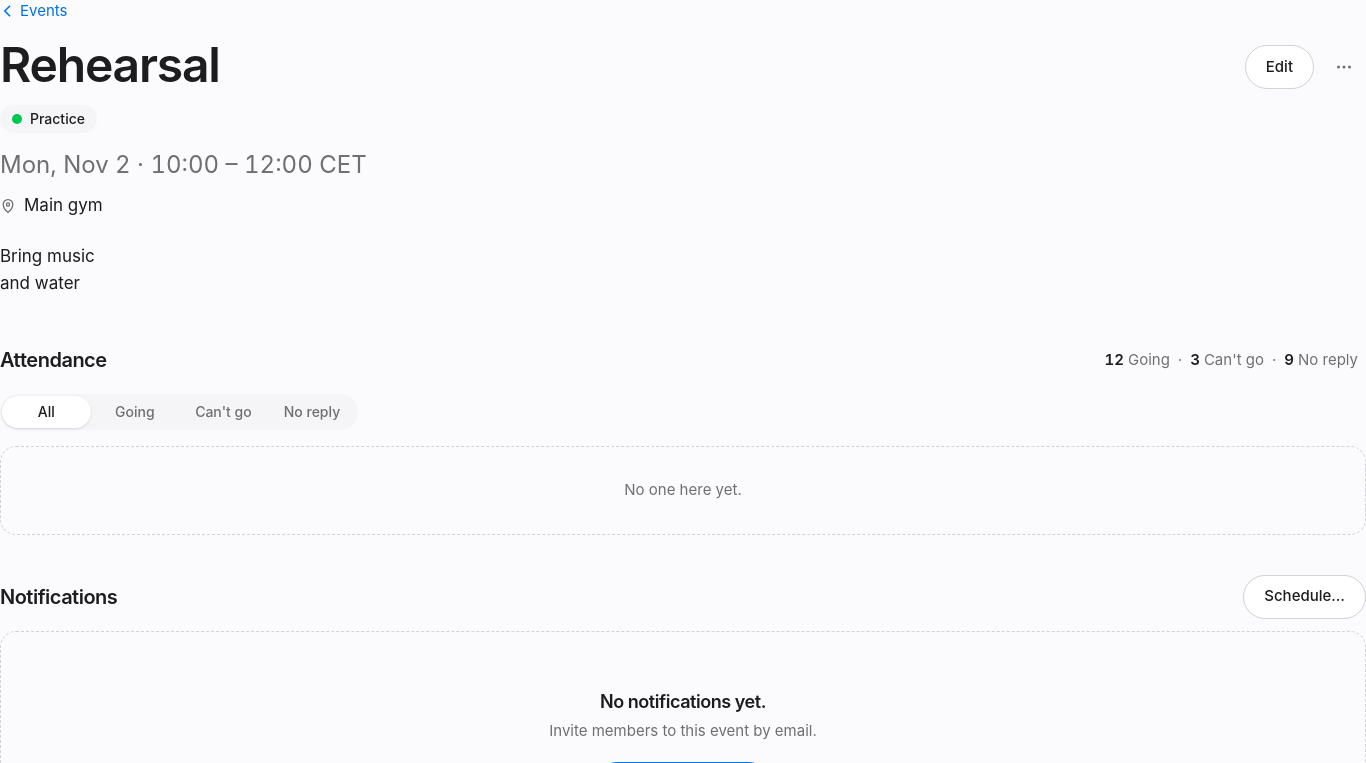
EventDetailView › schedules a reminder and toasts when it will go out
Click the button "Schedule…".
click(1305, 596)  # box 1243,574 -> 1365,618
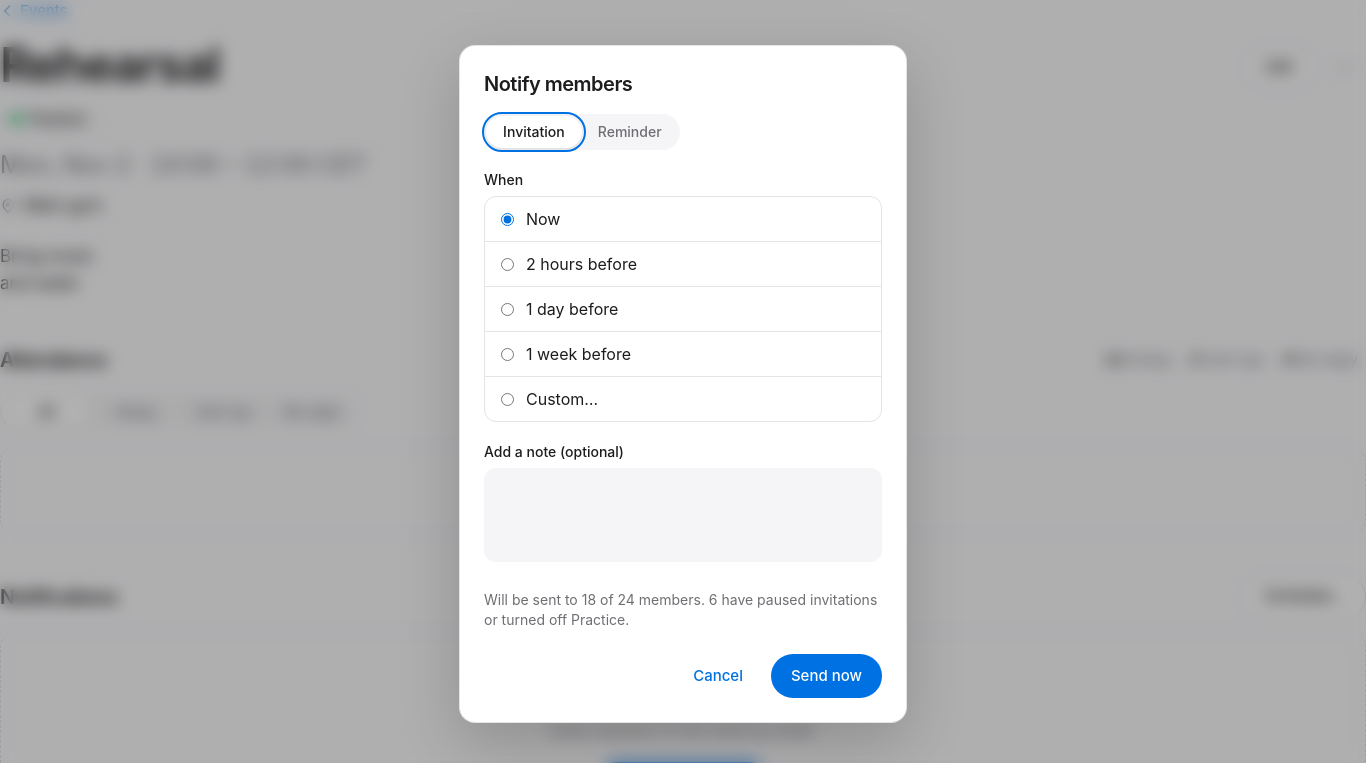
Click the radio button labelled "Reminder".
click(630, 132)  # box 582,116 -> 678,148
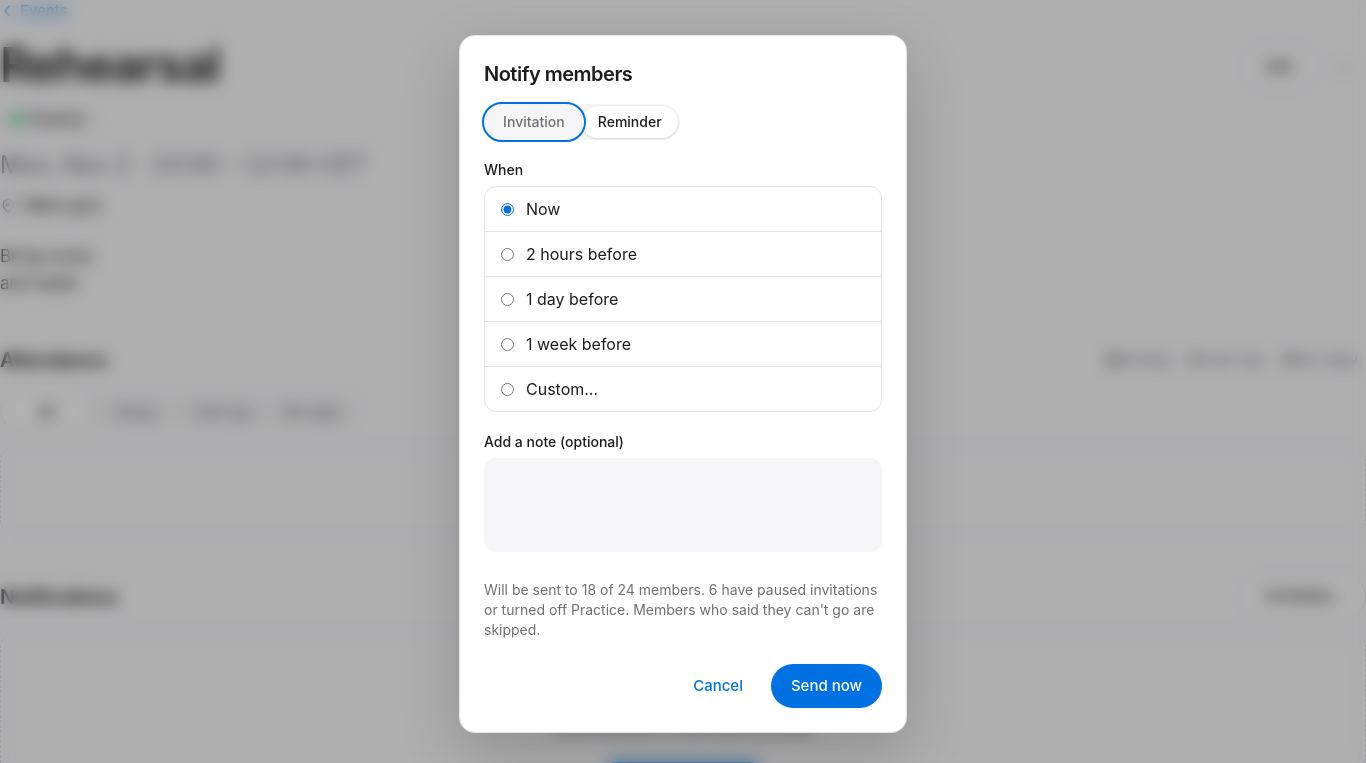
Click the radio button named "timing".
click(508, 299)  # box 501,292 -> 514,306
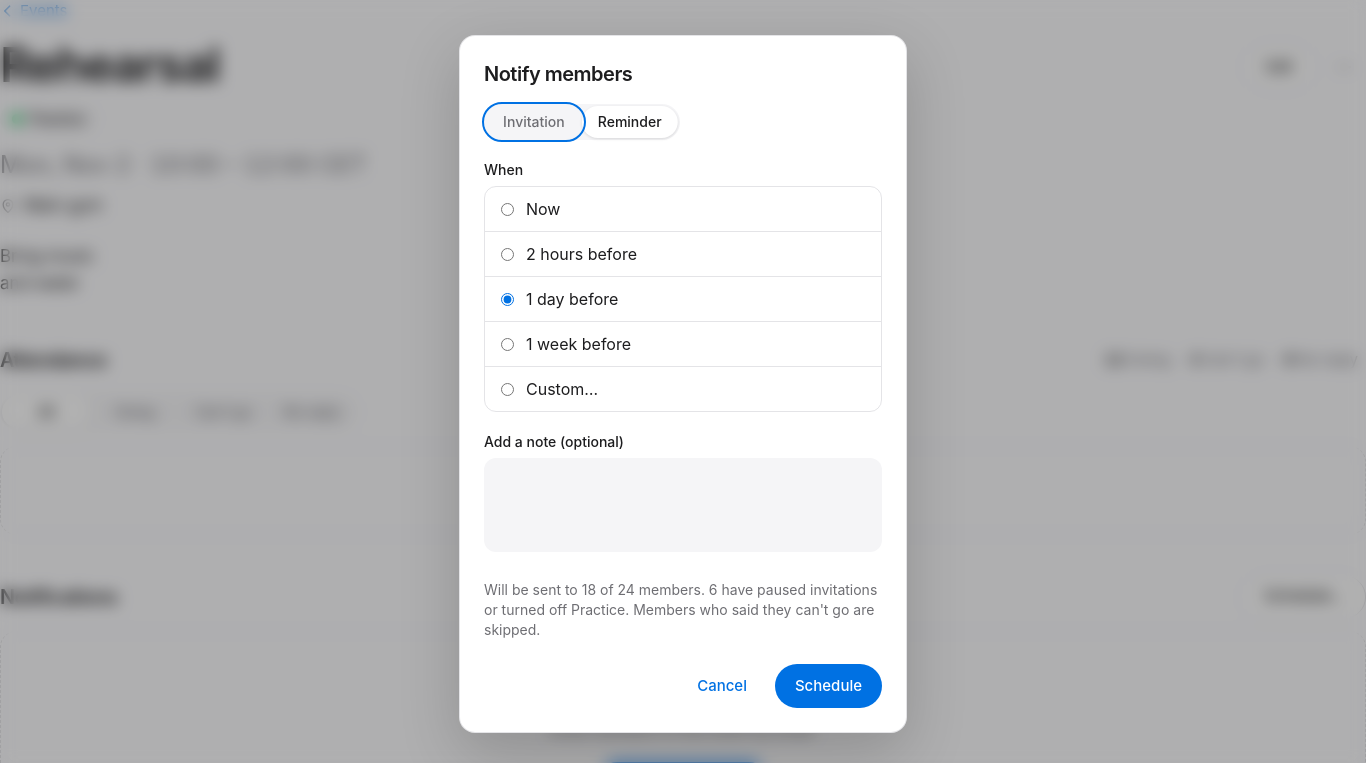
Click the button "Schedule".
click(828, 686)  # box 775,664 -> 882,708
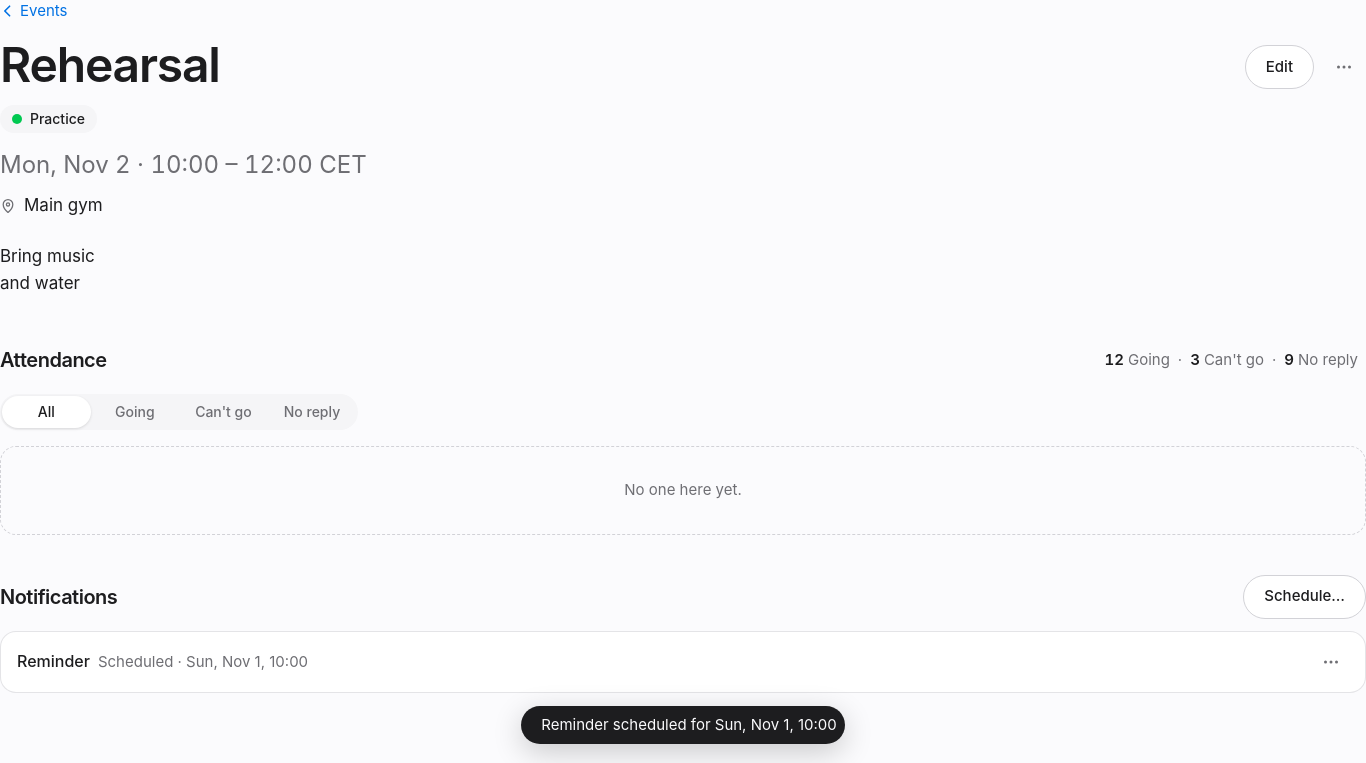
Expected: the message "Reminder scheduled for Sun, Nov 1, 10:00" is shown, 521,706 -> 845,744
Expected: the list item "Reminder Scheduled · Sun, Nov 1, 10:00" is shown, 1,632 -> 1365,692
